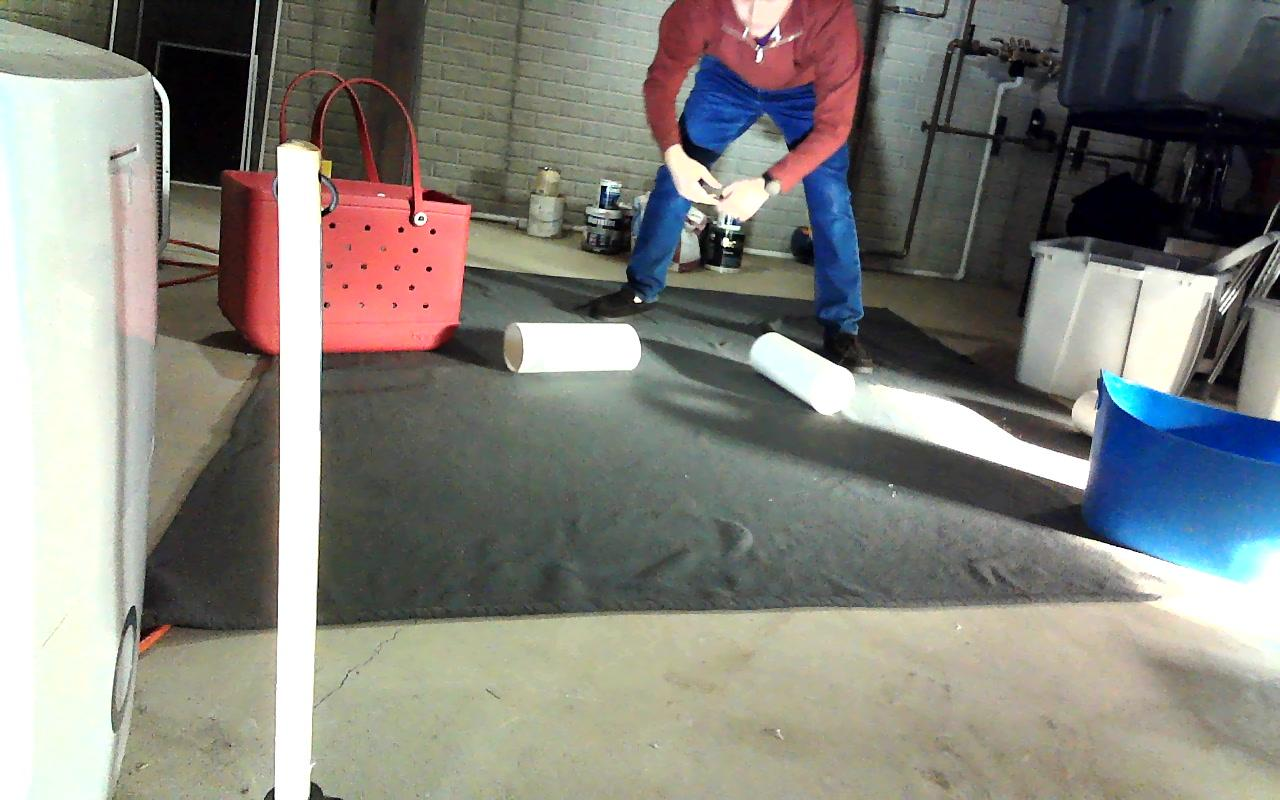coral: (750, 333, 853, 412), (502, 321, 638, 373)
